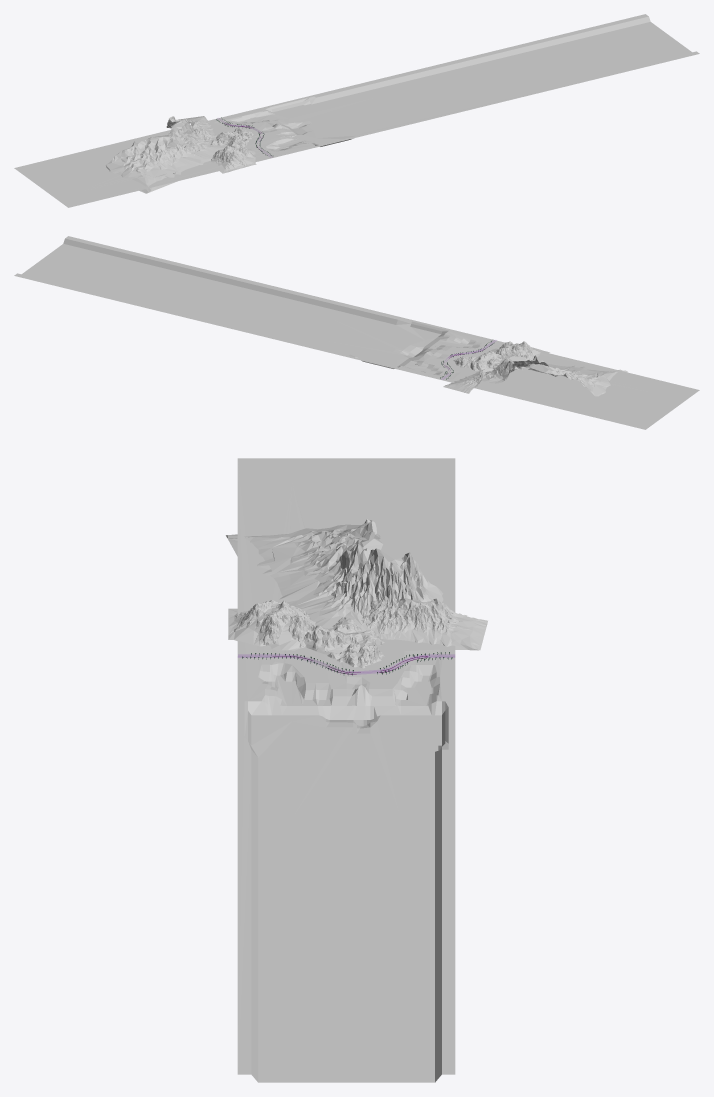
Rendered from Beach.FBX.
3 renders of one model, top to bottom at view 1: azimuth 30°, elevation 25°; view 2: azimuth 150°, elevation 25°; view 3: azimuth 270°, elevation 25°, orthographic. The views are drawn at different scales.
Visible parts, largest first — view 1: grunt, Plane023; view 2: grunt, Plane023; view 3: grunt, Plane023.
Boxes of the visible parts, x1=… form: grunt: x1=14, y1=14, x2=699, y2=207; Plane023: x1=106, y1=116, x2=256, y2=193; grunt: x1=14, y1=236, x2=699, y2=429; Plane023: x1=443, y1=341, x2=627, y2=396; grunt: x1=237, y1=458, x2=455, y2=1082; Plane023: x1=226, y1=519, x2=487, y2=668.
Size of the model in its own units: 16087 by 2895 by 753.
